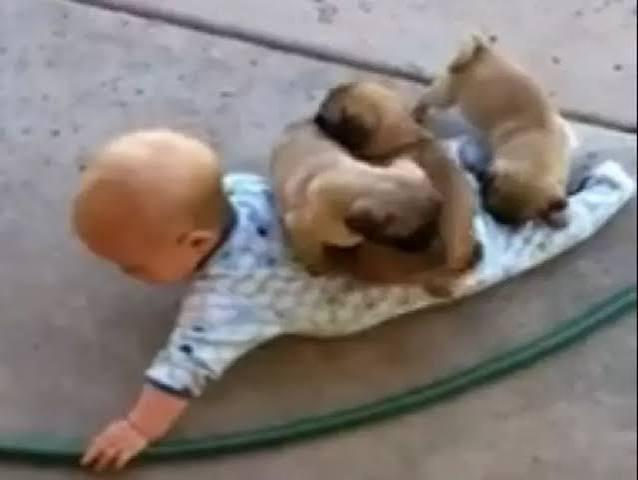non-dog: (66, 126, 638, 472)
puppy-dog: (309, 78, 483, 289), (410, 31, 576, 226), (267, 120, 449, 282)
